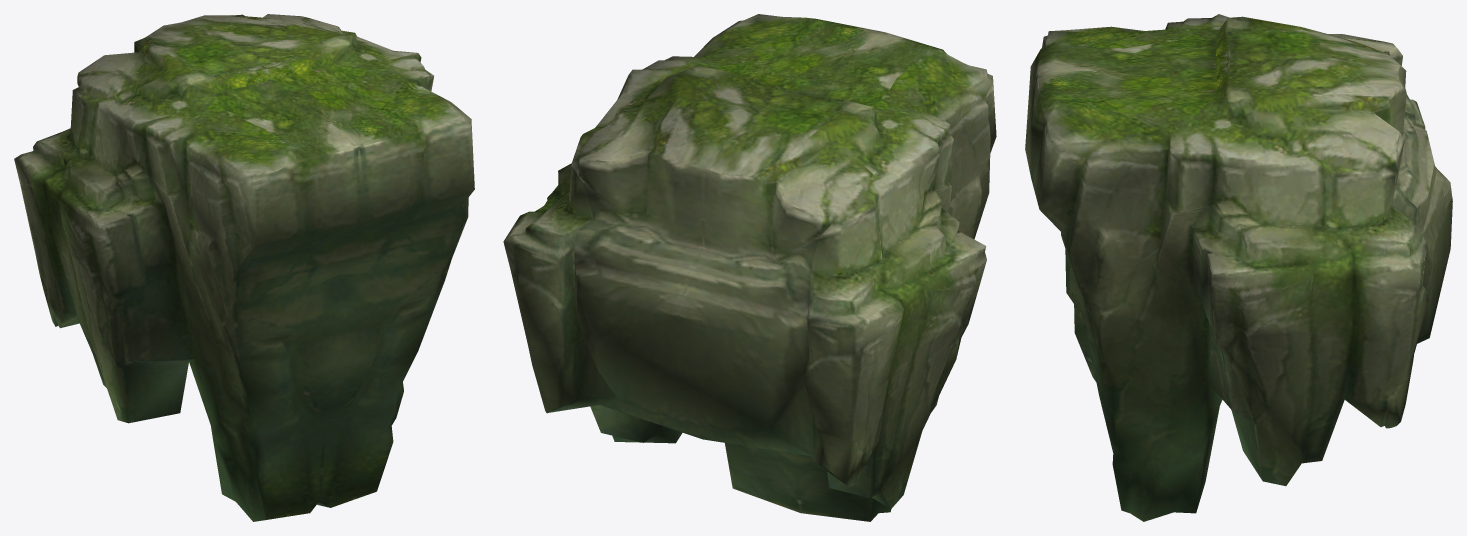
The model's file is S_Rock_Green056.FBX.
3 views of the same model, side by side, from view 1: azimuth 30°, elevation 25°; view 2: azimuth 150°, elevation 25°; view 3: azimuth 270°, elevation 25° (orthographic). The views are drawn at different scales.
Parts seen in each view (by area): view 1: S_Rock_Green056; view 2: S_Rock_Green056; view 3: S_Rock_Green056.
Boxes of the visible parts, x1,y1,x2,y2 form: S_Rock_Green056: (14, 14, 474, 521); S_Rock_Green056: (503, 14, 996, 521); S_Rock_Green056: (1025, 14, 1452, 521).
Size of the model in its own units: 1636 by 1717 by 1525.
